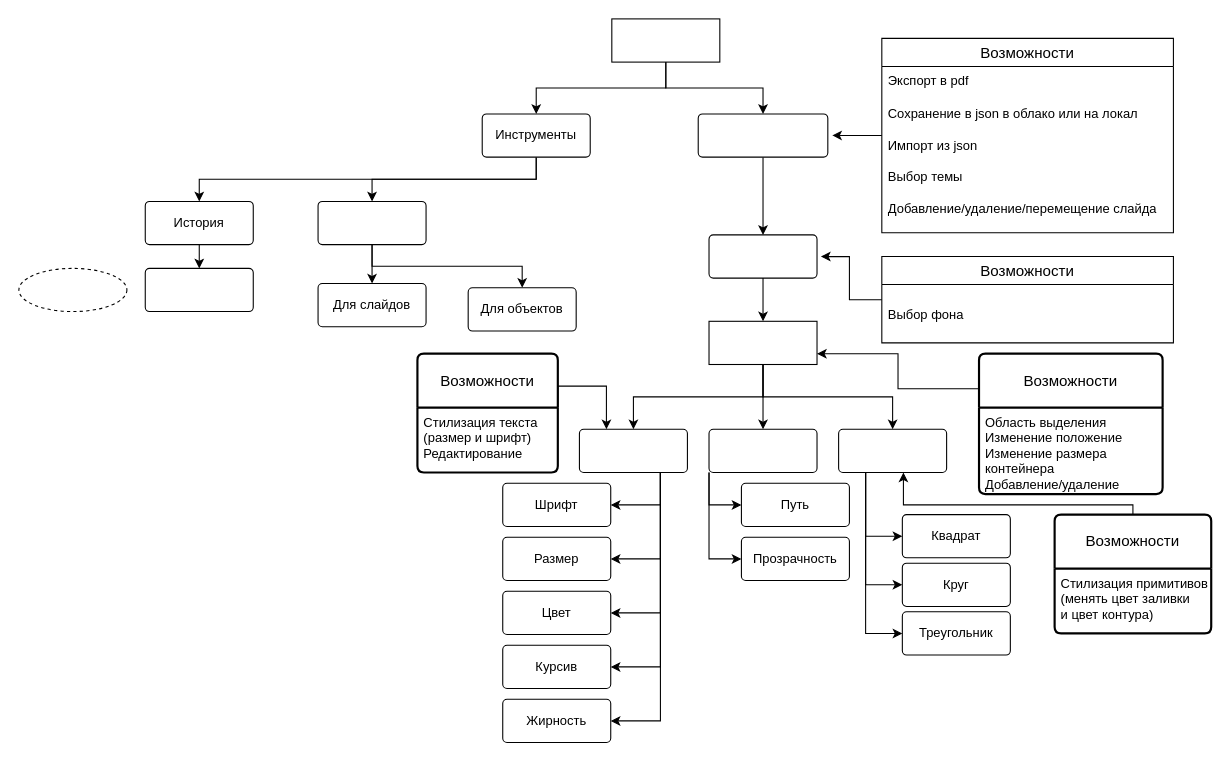
The diagram is 1231 pixels wide and 761 high, and some of its shapes have lost their labels. The shapes that lost their labels are listed below. From the top down, each one's centre as x and y in pixels, then its label:
At point (665, 40): "Редактор".
At point (762, 135): "Документ - презентация".
At point (371, 222): "Область выделения".
At point (762, 256): "Слайд".
At point (72, 289): "Записывает любое изм.".
At point (198, 289): "Действие".
At point (762, 342): "Объекты".
At point (632, 450): "Текстовый".
At point (762, 450): "Картинка".
At point (892, 450): "Примитивы".
